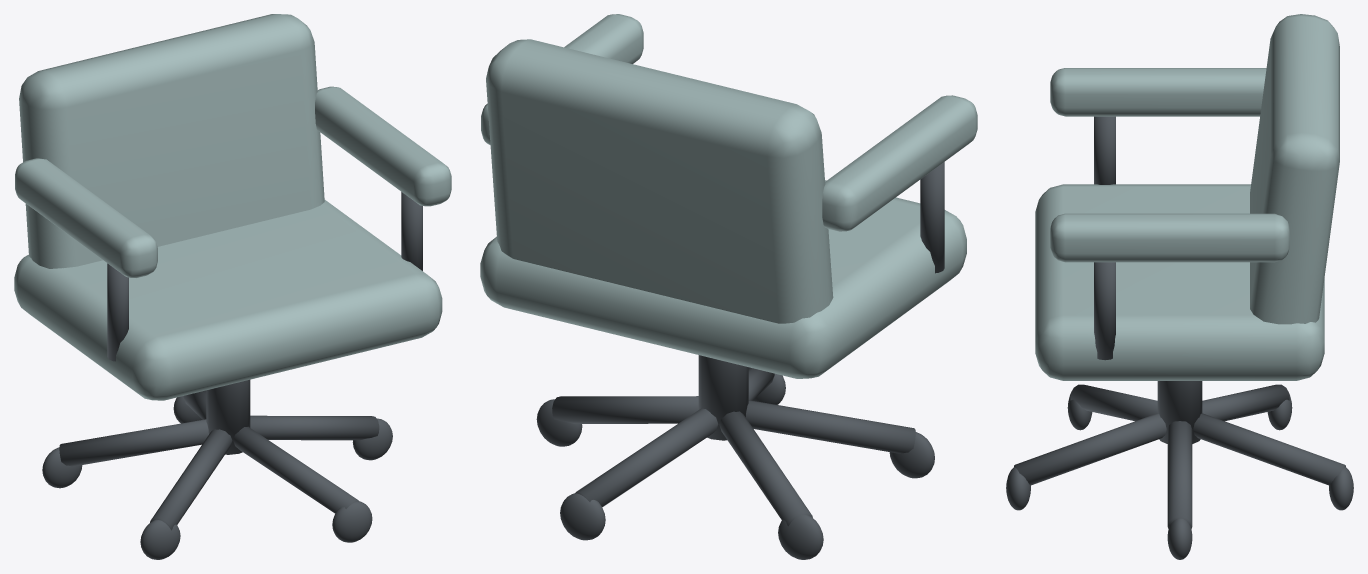
File: atelier-office-chair.glb
The picture shows the model from 3 angles, left to right: view 1: azimuth 30°, elevation 25°; view 2: azimuth 150°, elevation 25°; view 3: azimuth 270°, elevation 25°; orthographic projection. The views are drawn at different scales.
Visible parts, largest first — view 1: fabric.013, metal.001; view 2: fabric.013, metal.001; view 3: fabric.013, metal.001.
Boxes of the visible parts, bbox=[...] form: fabric.013: bbox=[14, 14, 451, 400]; metal.001: bbox=[42, 192, 422, 559]; fabric.013: bbox=[480, 14, 977, 378]; metal.001: bbox=[536, 162, 944, 559]; fabric.013: bbox=[1035, 14, 1339, 380]; metal.001: bbox=[1006, 116, 1353, 559].
Size of the model in its own units: 0.7762 by 0.91 by 0.6967.
